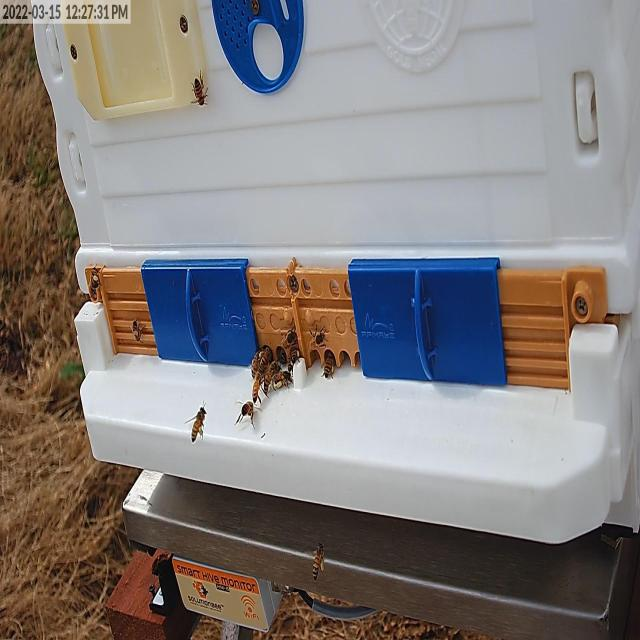honeybee: (125, 308, 155, 344), (84, 253, 100, 306), (195, 67, 213, 111), (180, 418, 207, 446), (242, 381, 258, 427), (324, 344, 337, 396), (248, 352, 262, 378), (267, 365, 279, 393), (310, 312, 320, 344), (285, 323, 292, 356)
